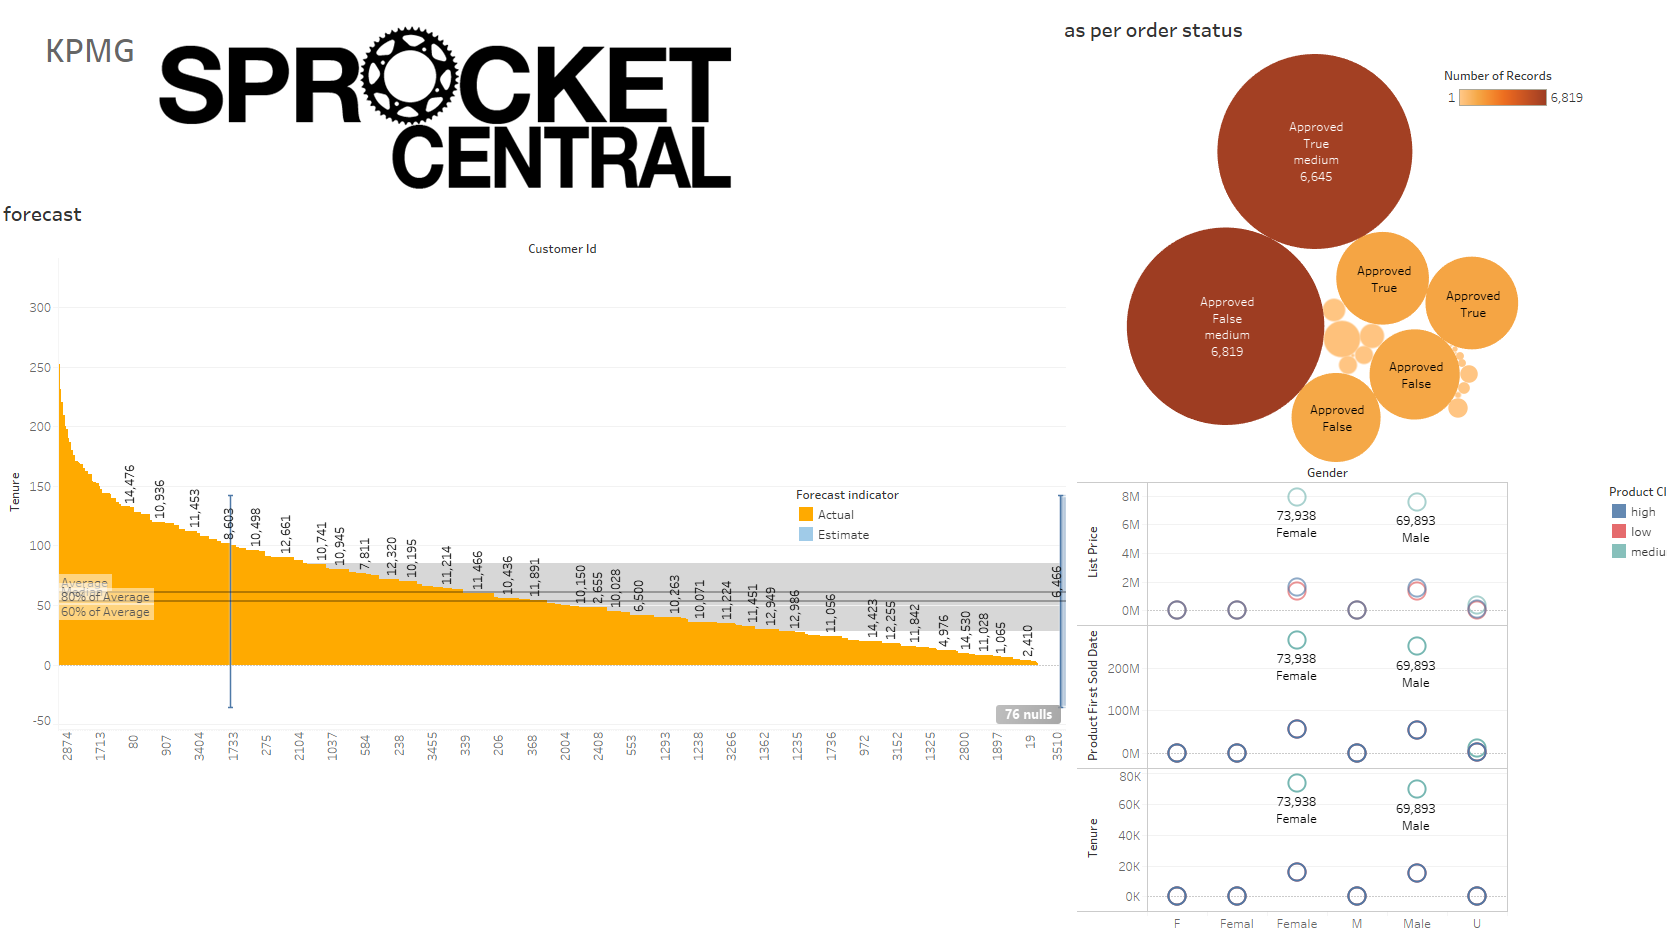

This screenshot's page, from the dashboard's own definition file:
{"tool":"tableau","page":{"name":"Dashboard 1","canvas":[1000,1000],"units":"permille","ordinal":0},"visuals":[{"type":"worksheet","title":"Sheet 2","mark":"Circle","box":[620.2,15.9,307.2,477.8]},{"type":"image","param":"Image/sprocket_central_logo.png","box":[91.9,31.8,511.4,215]},{"type":"text","box":[24.7,39,112.9,34.4]},{"type":"legend","title":"Sheet 2","param":"[federated.10zzsdp0hoaa021cgm0eb0f26sjg].[sum:Number of Records:qk]","box":[844.9,75.6,84.5,100.8]},{"type":"worksheet","title":"Sheet 1","mark":"Shape","rows":["list_price","product_first_sold_date","tenure"],"cols":["gender"],"box":[630.2,493.6,323,500]},{"type":"legend","title":"Sheet 1","param":"[federated.10zzsdp0hoaa021cgm0eb0f26sjg].[none:product_class:nk]","box":[941.5,515.5,42.9,112.3]},{"type":"legend","title":"Sheet 3","param":"[federated.10zzsdp0hoaa021cgm0eb0f26sjg].[none:Forecast Indicator:nk]","box":[465.9,518.9,84.5,73.3]}]}

Visuals, with their boxes on the dashboard's canvas, which has no fixed pixel size, in thousandths of its width and height (x1, y1, x2, y2). These are canvas units, not pixel positions in the 1667x937 screenshot, which may show the page scaled, cropped or inside an application window:
"Sheet 2" worksheet (Circle marks): x1=620, y1=16, x2=927, y2=494
image: x1=92, y1=32, x2=603, y2=247
text: x1=25, y1=39, x2=138, y2=73
"Sheet 2" legend: x1=845, y1=76, x2=929, y2=176
"Sheet 1" worksheet (Shape marks): x1=630, y1=494, x2=953, y2=994
"Sheet 1" legend: x1=942, y1=516, x2=984, y2=628
"Sheet 3" legend: x1=466, y1=519, x2=550, y2=592
